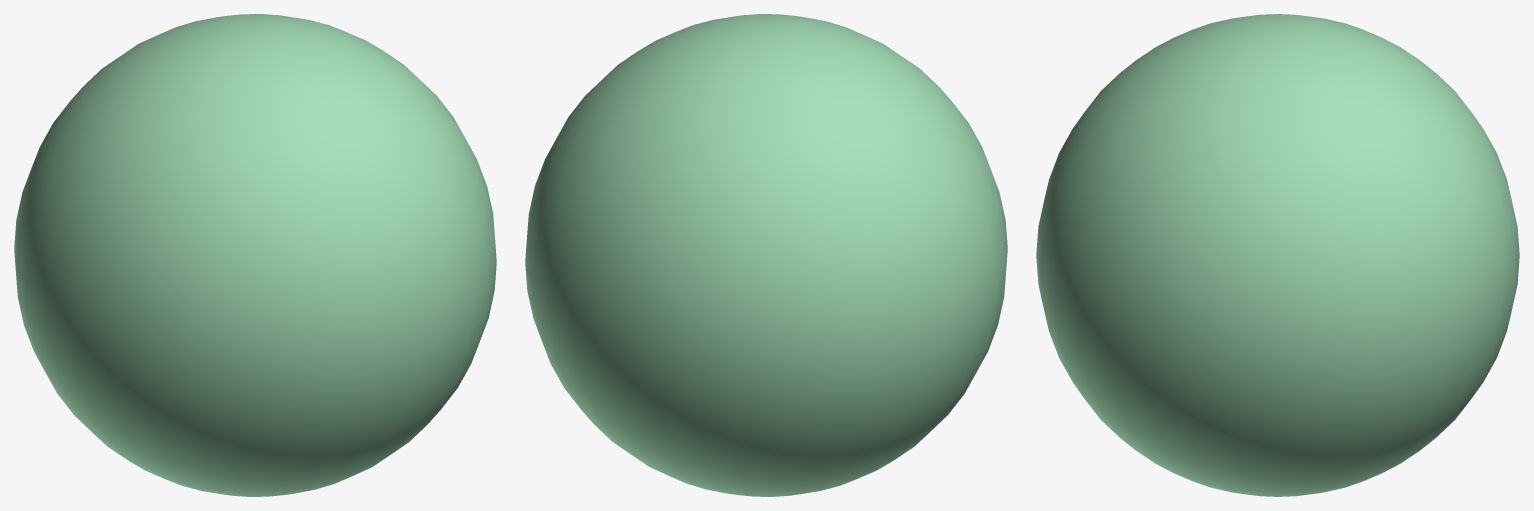
Rendered from TestMorph.glb.
The picture shows the model from 3 angles, left to right: view 1: azimuth 30°, elevation 25°; view 2: azimuth 150°, elevation 25°; view 3: azimuth 270°, elevation 25°; orthographic projection.
Bounding box in the file's own units: 2 × 2 × 2.
